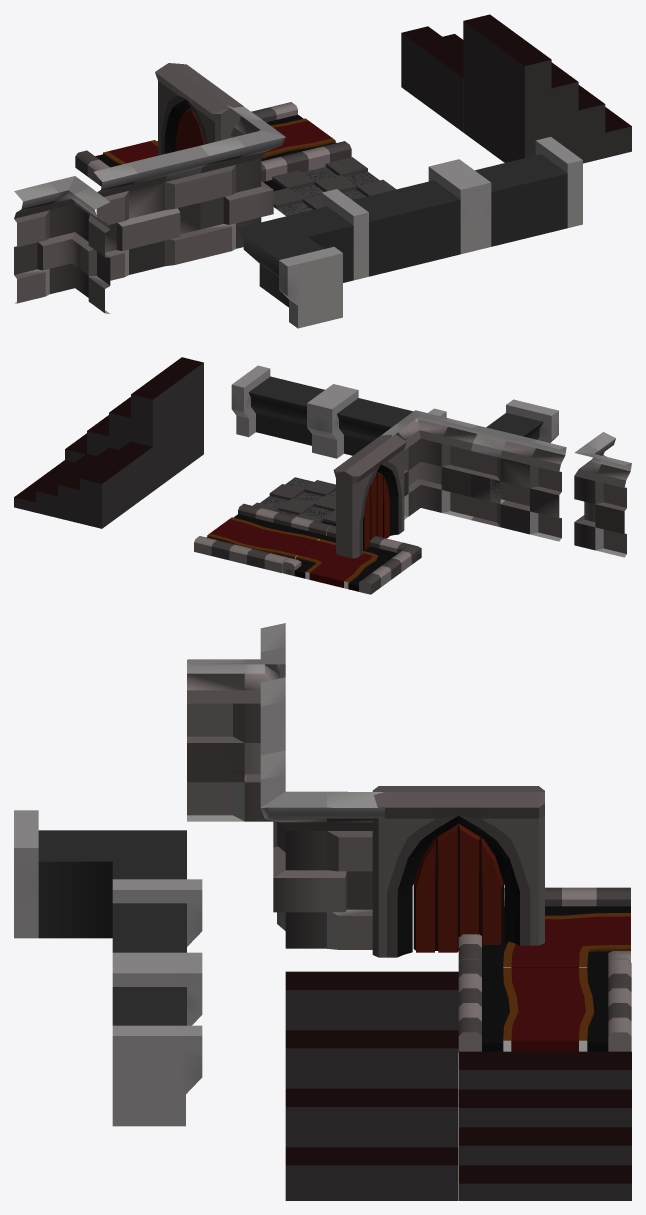
File: Modules.fbx
The picture shows the model from 3 angles, top to bottom: view 1: azimuth 30°, elevation 25°; view 2: azimuth 150°, elevation 25°; view 3: azimuth 270°, elevation 25°; orthographic projection. The views are drawn at different scales.
Visible parts, largest first — view 1: Stairs, CornerWall, Wall, esquina001, Midwall, Midwall2, esquina, Stairs2, Door, Box012, Tiles, Box013 (+1 smaller); view 2: Stairs, Wall, Stairs2, esquina, Midwall, Door, Box012, esquina001, Box013, Midwall2, Tiles, CornerWall (+2 smaller); view 3: Stairs, Stairs2, Door, CornerWall, esquina, Box012, Midwall, esquina001, Box013, Doorleft, Midwall2, Doorright (+1 smaller).
Boxes of the visible parts, bbox=[...] form: Stairs: bbox=[463, 14, 631, 163]; CornerWall: bbox=[236, 189, 368, 328]; Wall: bbox=[93, 146, 209, 280]; esquina001: bbox=[14, 176, 110, 313]; Midwall: bbox=[444, 137, 582, 250]; Midwall2: bbox=[352, 163, 475, 276]; esquina: bbox=[200, 105, 285, 257]; Stairs2: bbox=[401, 26, 463, 131]; Door: bbox=[155, 63, 243, 155]; Box012: bbox=[251, 102, 351, 181]; Tiles: bbox=[263, 157, 396, 216]; Box013: bbox=[75, 140, 157, 186]; Stairs: bbox=[65, 357, 203, 491]; Wall: bbox=[471, 425, 566, 541]; Stairs2: bbox=[14, 441, 152, 528]; esquina: bbox=[381, 410, 477, 519]; Midwall: bbox=[231, 365, 345, 455]; Door: bbox=[333, 434, 406, 558]; Box012: bbox=[194, 503, 331, 573]; esquina001: bbox=[574, 432, 631, 557]; Box013: bbox=[283, 525, 421, 594]; Midwall2: bbox=[319, 387, 413, 458]; Tiles: bbox=[253, 477, 335, 525]; CornerWall: bbox=[428, 399, 558, 442]; Stairs: bbox=[285, 971, 458, 1200]; Stairs2: bbox=[459, 1051, 631, 1200]; Door: bbox=[372, 786, 544, 957]; CornerWall: bbox=[14, 810, 202, 946]; esquina: bbox=[260, 750, 384, 949]; Box012: bbox=[458, 959, 631, 1052]; Midwall: bbox=[112, 963, 202, 1126]; esquina001: bbox=[187, 623, 285, 821]; Box013: bbox=[458, 887, 630, 969]; Doorleft: bbox=[413, 824, 458, 952]; Midwall2: bbox=[112, 903, 202, 962]; Doorright: bbox=[458, 824, 503, 944].
Size of the model in its own units: 404 by 70.18 by 250.
